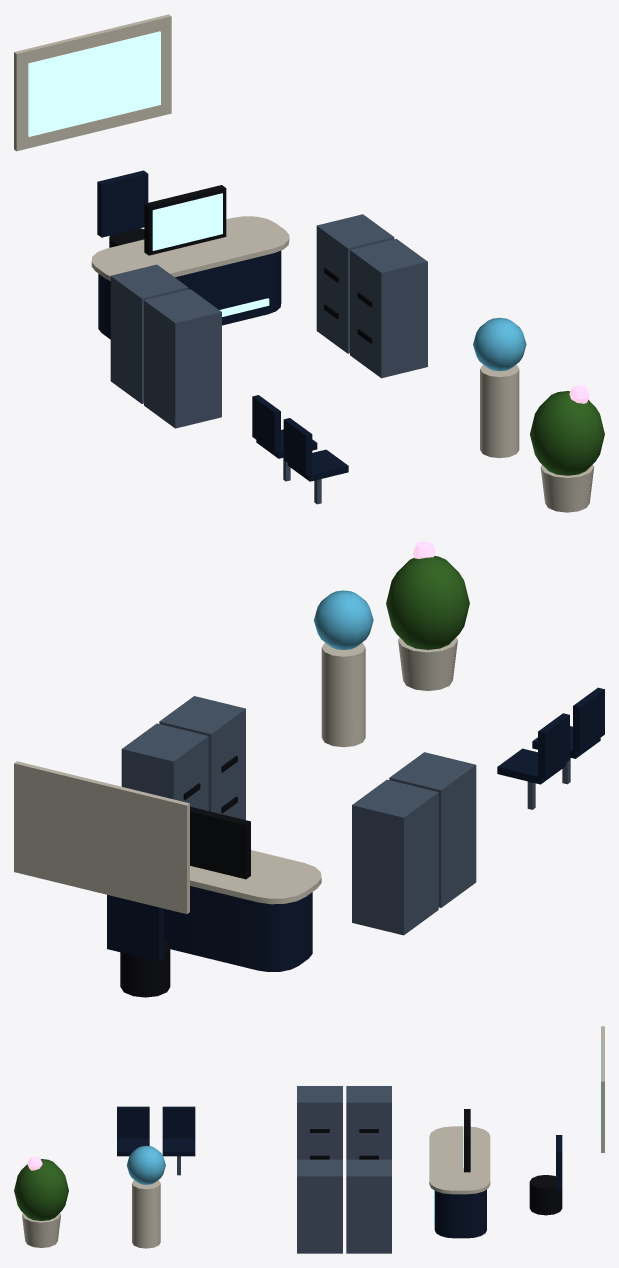
The model's file is fit_office_1.glb.
3 views of the same model, one above another, from view 1: azimuth 30°, elevation 25°; view 2: azimuth 150°, elevation 25°; view 3: azimuth 270°, elevation 25° (orthographic). The views are drawn at different scales.
Visible parts, largest first — view 1: fit_office_1; view 2: fit_office_1; view 3: fit_office_1.
Part boxes in pixels (x1,y1,x2,y2): fit_office_1: (14, 14, 604, 512); fit_office_1: (14, 541, 604, 997); fit_office_1: (14, 1026, 604, 1253).
Bounding box in the file's own units: 3.26 × 2.6 × 9.02.
